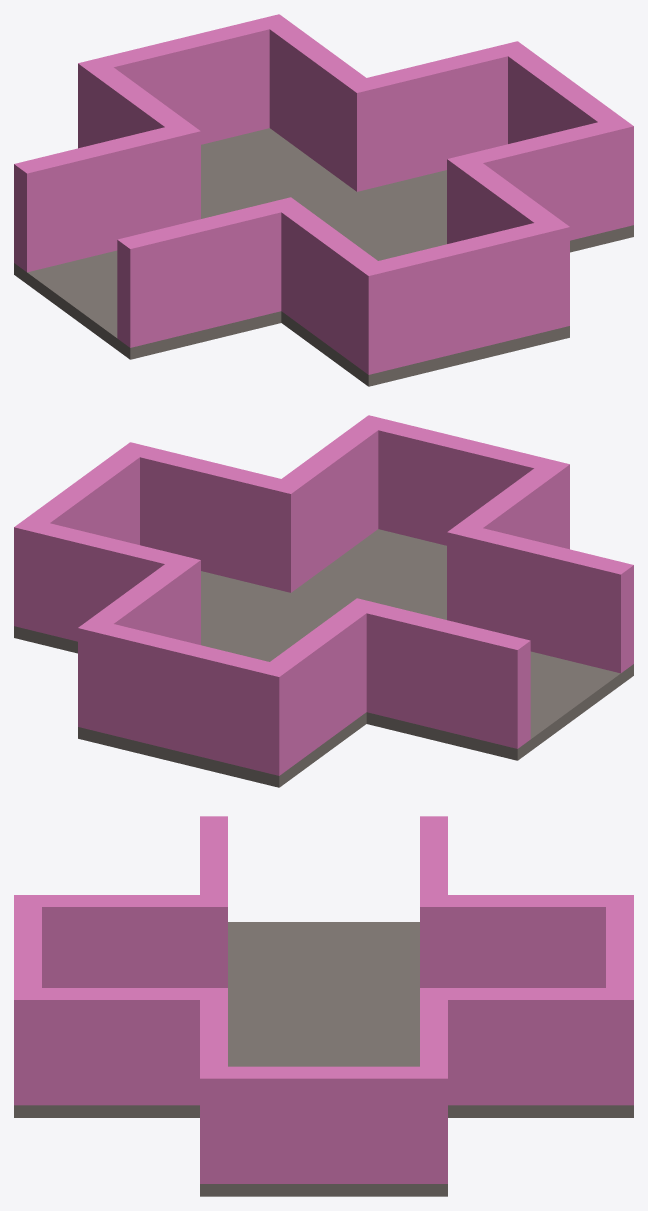
The model's file is X_wayCap3.fbx.
3 views of the same model, one above another, from view 1: azimuth 30°, elevation 25°; view 2: azimuth 150°, elevation 25°; view 3: azimuth 270°, elevation 25° (orthographic). The views are drawn at different scales.
Visible parts, largest first — view 1: X_wayCap3; view 2: X_wayCap3; view 3: X_wayCap3.
Boxes of the visible parts, x1,y1,x2,y2 form: X_wayCap3: (14,14,633,386); X_wayCap3: (14,415,633,787); X_wayCap3: (14,816,633,1196).
Size of the model in its own units: 2000 by 420 by 2000.
